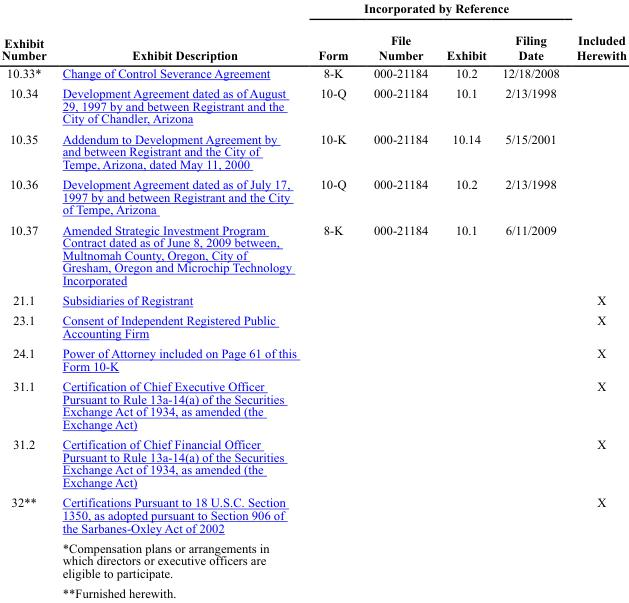table: (0, 1, 625, 599)
table column: (53, 1, 306, 599), (360, 1, 436, 599), (493, 1, 567, 599), (567, 1, 625, 599), (436, 1, 493, 599), (306, 1, 360, 599), (0, 1, 53, 599)
table column header: (0, 1, 625, 63)
table row: (0, 219, 625, 289), (0, 375, 625, 433), (0, 433, 625, 491), (0, 82, 625, 128), (0, 173, 625, 219), (0, 491, 625, 537), (0, 128, 625, 173), (0, 537, 625, 582), (0, 24, 625, 63), (0, 342, 625, 375), (0, 310, 625, 342), (0, 1, 625, 24), (0, 289, 625, 310), (0, 63, 625, 82), (0, 582, 625, 599)
table spanning cell: (53, 1, 306, 63), (306, 1, 567, 24), (0, 491, 53, 599), (567, 1, 625, 63), (0, 1, 53, 63)
